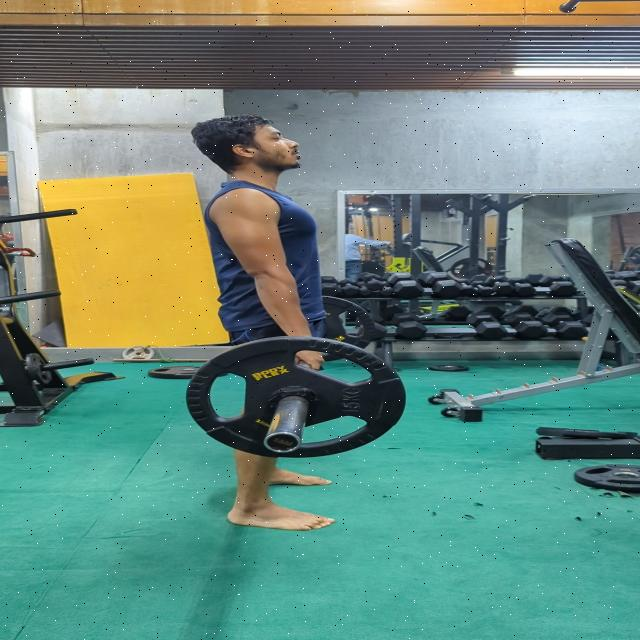Normal_Deadlifts: (182, 113, 341, 533)
